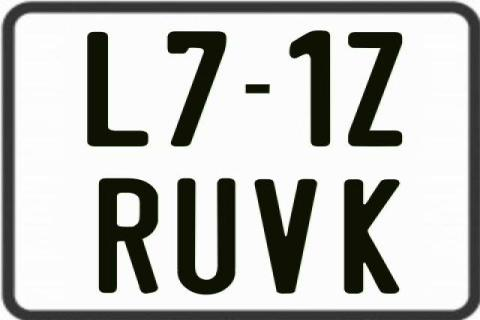0: (165, 29, 228, 147), (287, 30, 334, 146)
K: (344, 178, 403, 296)
L: (84, 32, 149, 146)
R: (99, 177, 159, 293)
U: (177, 177, 238, 297)
V: (254, 177, 320, 292)
Z: (345, 30, 401, 148)
